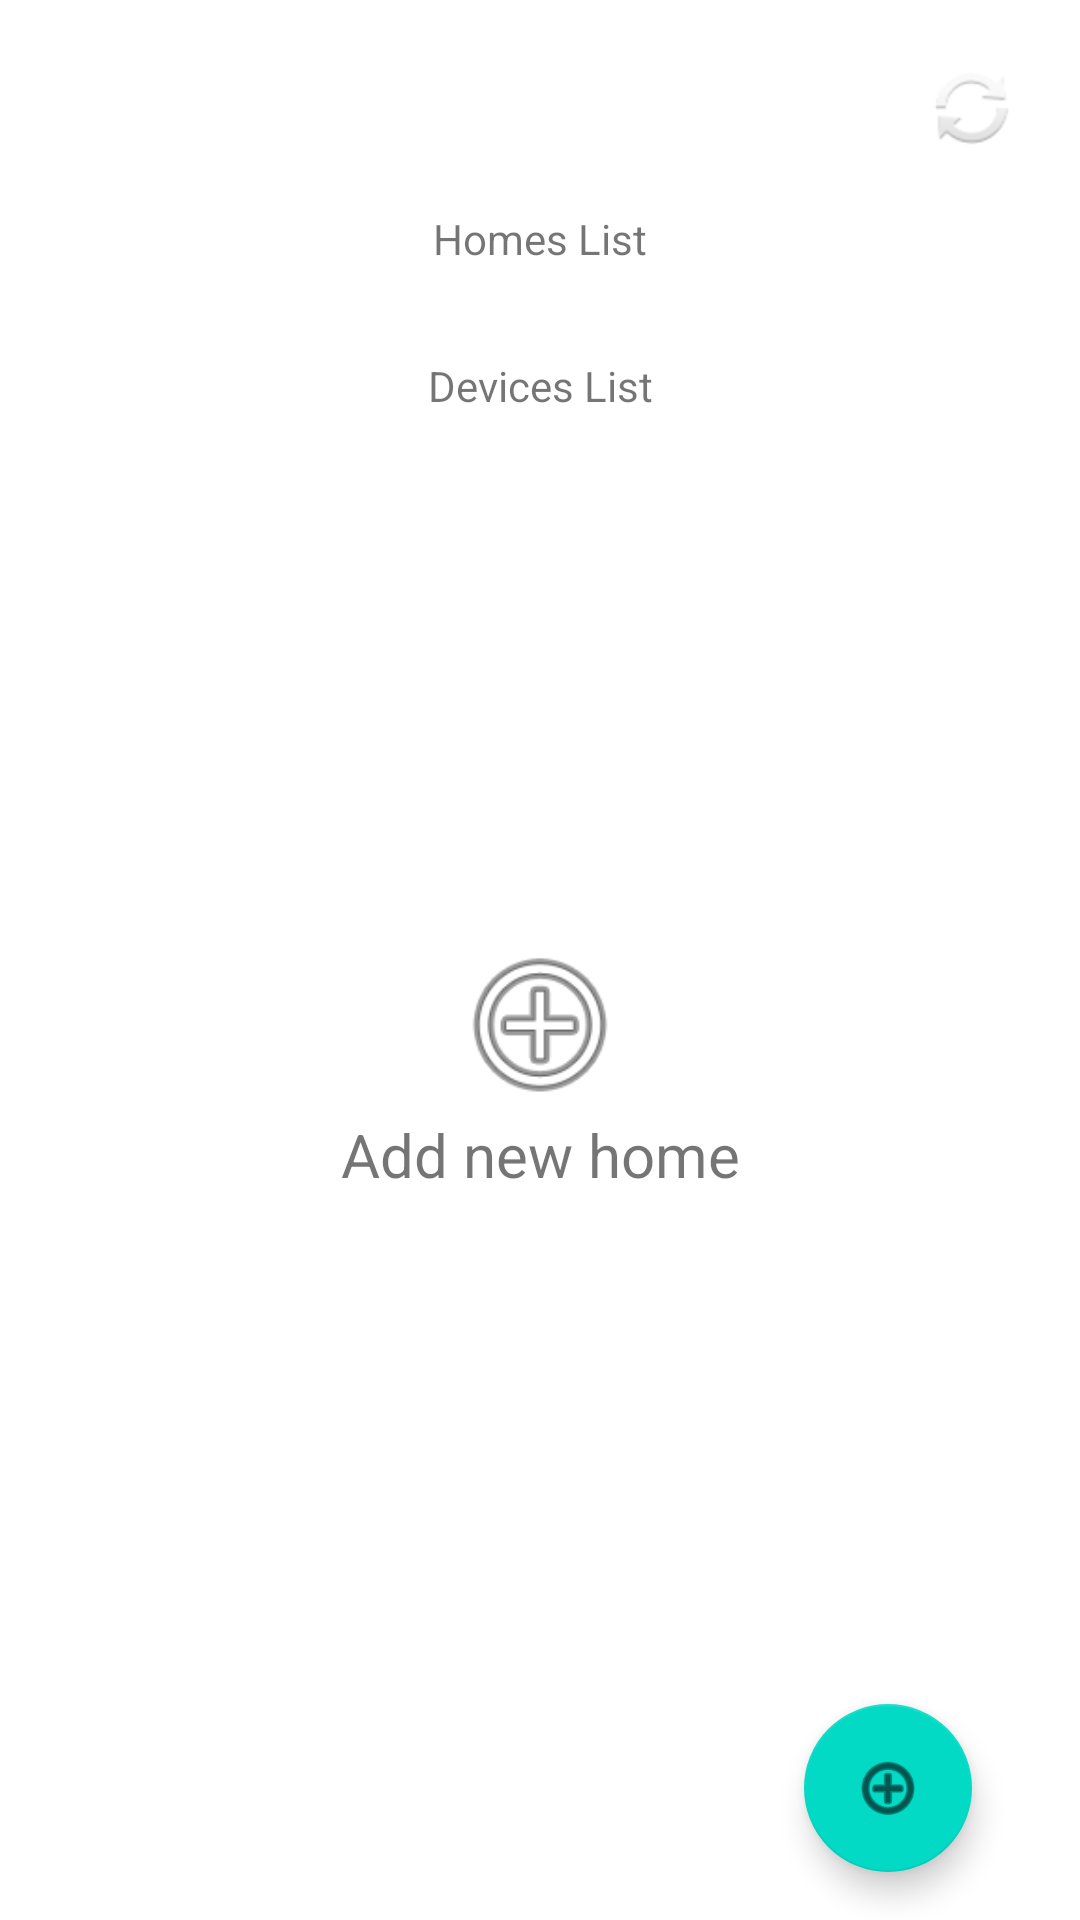

Icon click points for this 1080px×1920px phone screenshot, format [x,y]:
Refresh: [971,112]
